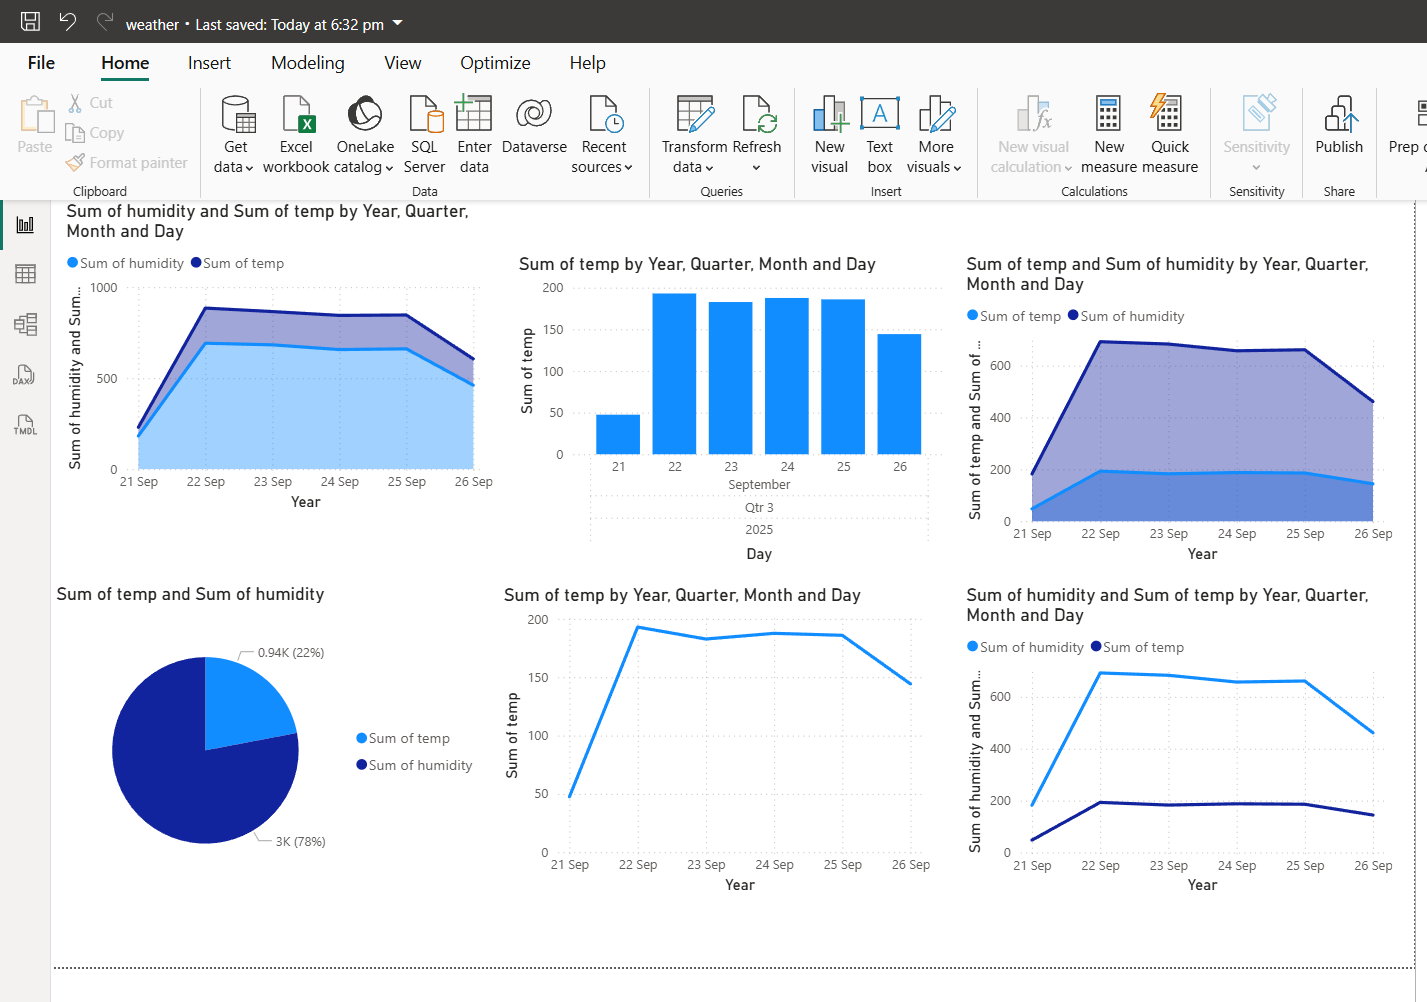

The page's visual inventory and layout, read from the dashboard file:
{"tool":"powerbi","page":{"name":"Page 1","canvas":[1280,720],"ordinal":0},"visuals":[{"type":"stackedAreaChart","fields":{"Y":["Sum(public_weather_data_export_2025-09-21_182332.humidity)","Sum(public_weather_data_export_2025-09-21_182332.temp)"],"Category":["public_weather_data_export_2025-09-21_182332.datetime.Variation.Date Hierarchy.Year","public_weather_data_export_2025-09-21_182332.datetime.Variation.Date Hierarchy.Quarter","public_weather_data_export_2025-09-21_182332.datetime.Variation.Date Hierarchy.Month","public_weather_data_export_2025-09-21_182332.datetime.Variation.Date Hierarchy.Day"]},"box":[9.6,0,410.3,296.4],"z":0},{"type":"pieChart","fields":{"Y":["Sum(public_weather_data_export_2025-09-21_182332.temp)","Sum(public_weather_data_export_2025-09-21_182332.humidity)"]},"box":[0,359.5,410.3,296.4],"z":1},{"type":"lineChart","fields":{"Y":["Sum(public_weather_data_export_2025-09-21_182332.temp)"],"Category":["public_weather_data_export_2025-09-21_182332.datetime.Variation.Date Hierarchy.Year","public_weather_data_export_2025-09-21_182332.datetime.Variation.Date Hierarchy.Quarter","public_weather_data_export_2025-09-21_182332.datetime.Variation.Date Hierarchy.Month","public_weather_data_export_2025-09-21_182332.datetime.Variation.Date Hierarchy.Day"]},"box":[420,360,410,296],"z":2},{"type":"lineClusteredColumnComboChart","fields":{"Y":["Sum(public_weather_data_export_2025-09-21_182332.temp)"],"Category":["public_weather_data_export_2025-09-21_182332.datetime.Variation.Date Hierarchy.Year","public_weather_data_export_2025-09-21_182332.datetime.Variation.Date Hierarchy.Quarter","public_weather_data_export_2025-09-21_182332.datetime.Variation.Date Hierarchy.Month","public_weather_data_export_2025-09-21_182332.datetime.Variation.Date Hierarchy.Day"]},"box":[433.6,49.4,410.3,296.4],"z":3},{"type":"areaChart","fields":{"Y":["Sum(public_weather_data_export_2025-09-21_182332.temp)","Sum(public_weather_data_export_2025-09-21_182332.humidity)"],"Category":["public_weather_data_export_2025-09-21_182332.datetime.Variation.Date Hierarchy.Year","public_weather_data_export_2025-09-21_182332.datetime.Variation.Date Hierarchy.Quarter","public_weather_data_export_2025-09-21_182332.datetime.Variation.Date Hierarchy.Month","public_weather_data_export_2025-09-21_182332.datetime.Variation.Date Hierarchy.Day"]},"box":[854,49,410,296],"z":4},{"type":"lineChart","fields":{"Y":["Sum(public_weather_data_export_2025-09-21_182332.humidity)","Sum(public_weather_data_export_2025-09-21_182332.temp)"],"Category":["public_weather_data_export_2025-09-21_182332.datetime.Variation.Date Hierarchy.Year","public_weather_data_export_2025-09-21_182332.datetime.Variation.Date Hierarchy.Quarter","public_weather_data_export_2025-09-21_182332.datetime.Variation.Date Hierarchy.Month","public_weather_data_export_2025-09-21_182332.datetime.Variation.Date Hierarchy.Day"]},"box":[854,360,410,296],"z":5}]}

Visuals, with their boxes on the page's 1280x720 design canvas (x1, y1, x2, y2). These are canvas units, not pixel positions in the 1427x1002 screenshot, which may show the page scaled, cropped or inside an application window:
stackedAreaChart - Sum(public_weather_data_export_2025-09-21_182332.humidity) x Sum(public_weather_data_export_2025-09-21_182332.temp): (x1=10, y1=0, x2=420, y2=296)
pieChart - Sum(public_weather_data_export_2025-09-21_182332.temp) x Sum(public_weather_data_export_2025-09-21_182332.humidity): (x1=0, y1=360, x2=410, y2=656)
lineChart - Sum(public_weather_data_export_2025-09-21_182332.temp) x public_weather_data_export_2025-09-21_182332.datetime.Variation.Date Hierarchy.Year: (x1=420, y1=360, x2=830, y2=656)
lineClusteredColumnComboChart - Sum(public_weather_data_export_2025-09-21_182332.temp) x public_weather_data_export_2025-09-21_182332.datetime.Variation.Date Hierarchy.Year: (x1=434, y1=49, x2=844, y2=346)
areaChart - Sum(public_weather_data_export_2025-09-21_182332.temp) x Sum(public_weather_data_export_2025-09-21_182332.humidity): (x1=854, y1=49, x2=1264, y2=345)
lineChart - Sum(public_weather_data_export_2025-09-21_182332.humidity) x Sum(public_weather_data_export_2025-09-21_182332.temp): (x1=854, y1=360, x2=1264, y2=656)
